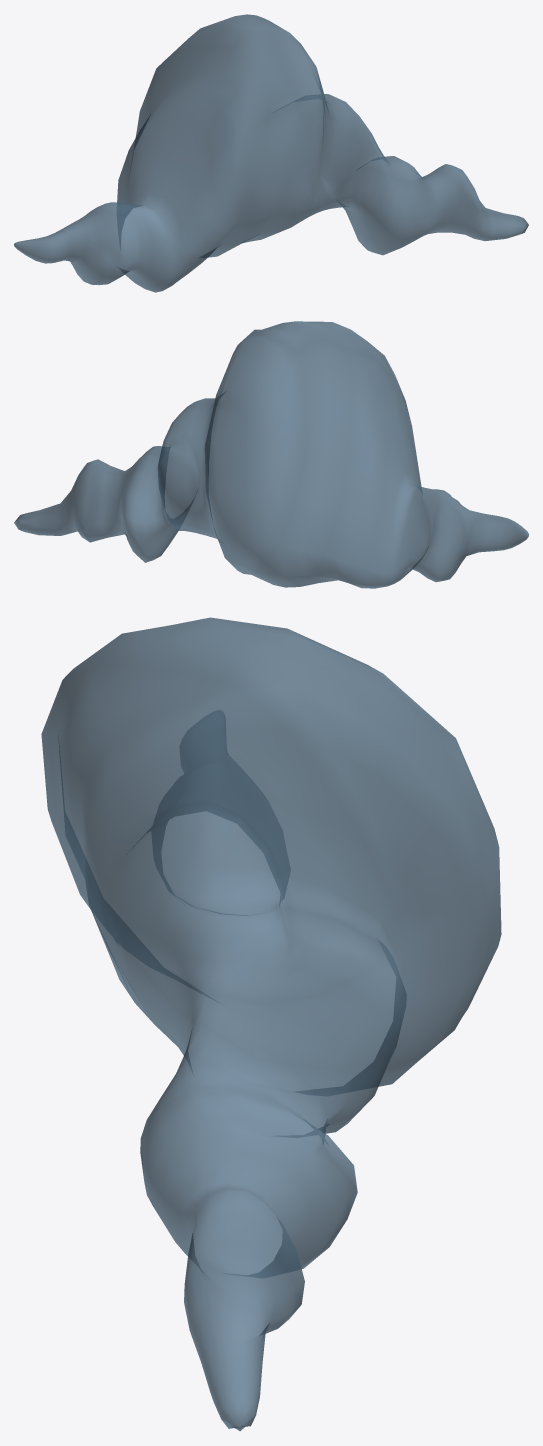
File: cloud0.fbx
The picture shows the model from 3 angles, top to bottom: view 1: azimuth 30°, elevation 25°; view 2: azimuth 150°, elevation 25°; view 3: azimuth 270°, elevation 25°; orthographic projection. The views are drawn at different scales.
Parts seen in each view (by area): view 1: Cloud_MG2; view 2: Cloud_MG2; view 3: Cloud_MG2.
Part boxes in pixels (x1,y1,x2,y2): Cloud_MG2: [14, 14, 528, 292]; Cloud_MG2: [14, 321, 528, 588]; Cloud_MG2: [41, 617, 501, 1431].
Bounding box in the file's own units: 281 × 143 × 110.
